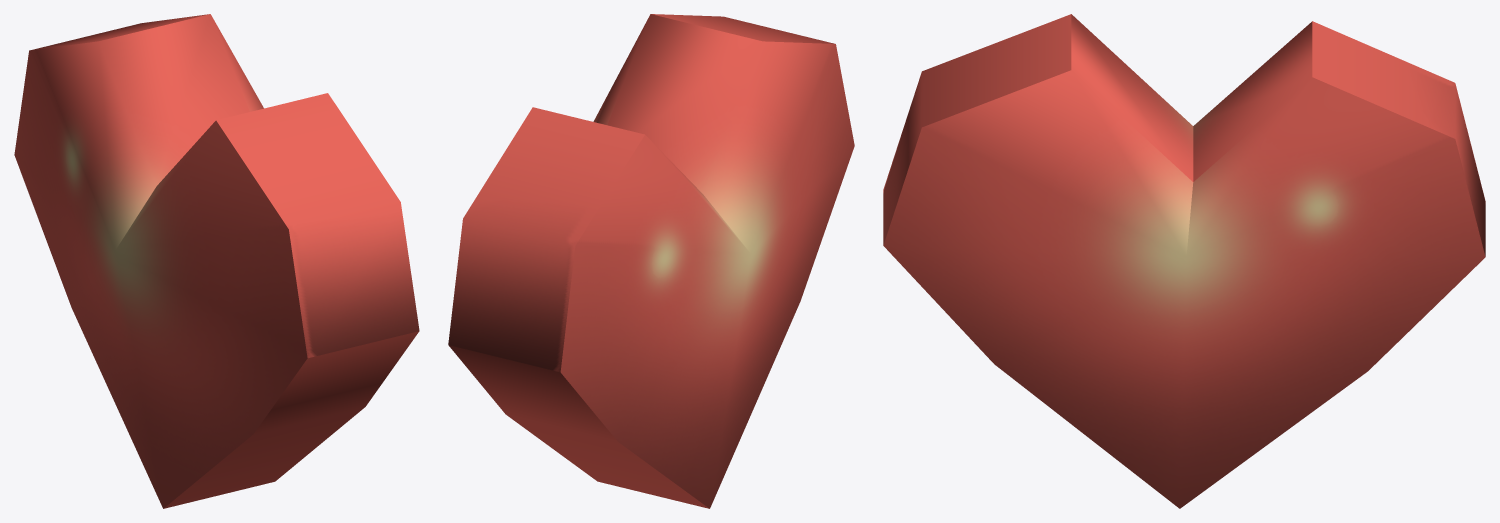
The model's file is Heart.fbx.
3 views of the same model, side by side, from view 1: azimuth 30°, elevation 25°; view 2: azimuth 150°, elevation 25°; view 3: azimuth 270°, elevation 25° (orthographic). The views are drawn at different scales.
Parts seen in each view (by area): view 1: Cylinder; view 2: Cylinder; view 3: Cylinder.
Part boxes in pixels (x1,y1,x2,y2): Cylinder: (14,14,419,508); Cylinder: (448,14,854,508); Cylinder: (883,14,1485,508).
Size of the model in its own units: 0.897 by 1.82 by 2.27.
